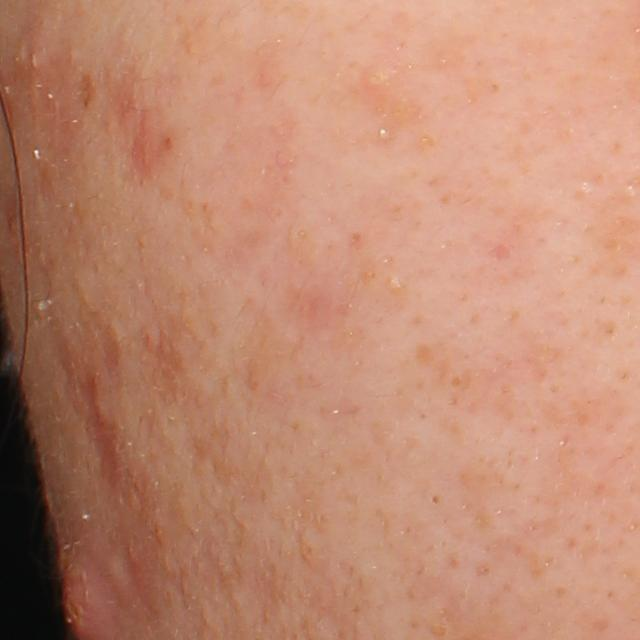comedo: (372, 121, 399, 147), (423, 490, 443, 511)
